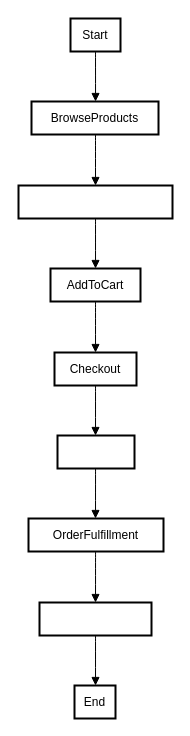
The diagram is 190 pixels wide and 736 high, and some of its shapes have lost their labels. The shapes that lost their labels are listed below. From the top down, each one's box as (x1, y1, x2, y2) in pixels, then its label:
(17, 184, 173, 219): ViewProductDetails
(56, 434, 135, 469): Payment
(38, 601, 152, 636): OrderShipped
